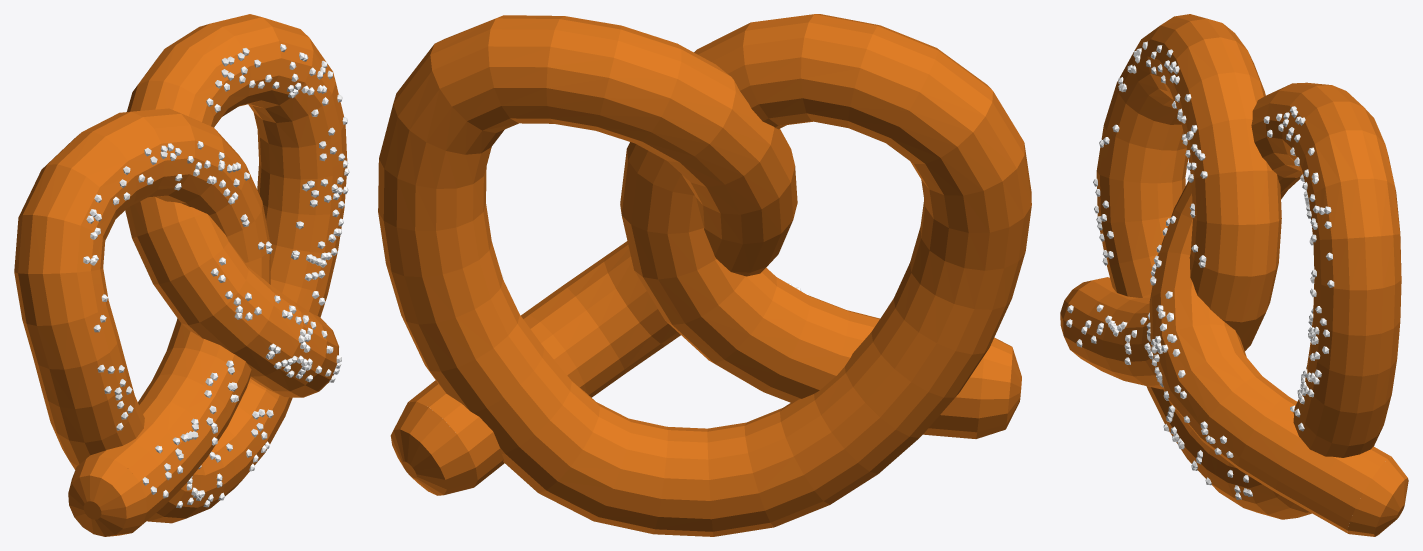
File: 9FPF7CPKf7M.glb
3 views of the same model, side by side, from view 1: azimuth 30°, elevation 25°; view 2: azimuth 150°, elevation 25°; view 3: azimuth 270°, elevation 25° (orthographic). The views are drawn at different scales.
Visible parts, largest first — view 1: Rectangle_sweep, salt_polys, salt_0; view 2: Rectangle_sweep, salt_polys; view 3: Rectangle_sweep, salt_polys, salt_0.
Boxes of the visible parts, <box> form: Rectangle_sweep: <box>14,14,347,523</box>; salt_polys: <box>68,41,346,536</box>; salt_0: <box>83,44,349,508</box>; Rectangle_sweep: <box>378,14,1031,536</box>; salt_polys: <box>390,337,1021,495</box>; Rectangle_sweep: <box>1063,14,1401,533</box>; salt_polys: <box>1060,46,1408,536</box>; salt_0: <box>1066,41,1334,499</box>.
Size of the model in its own units: 1.02 by 1 by 0.7284.
